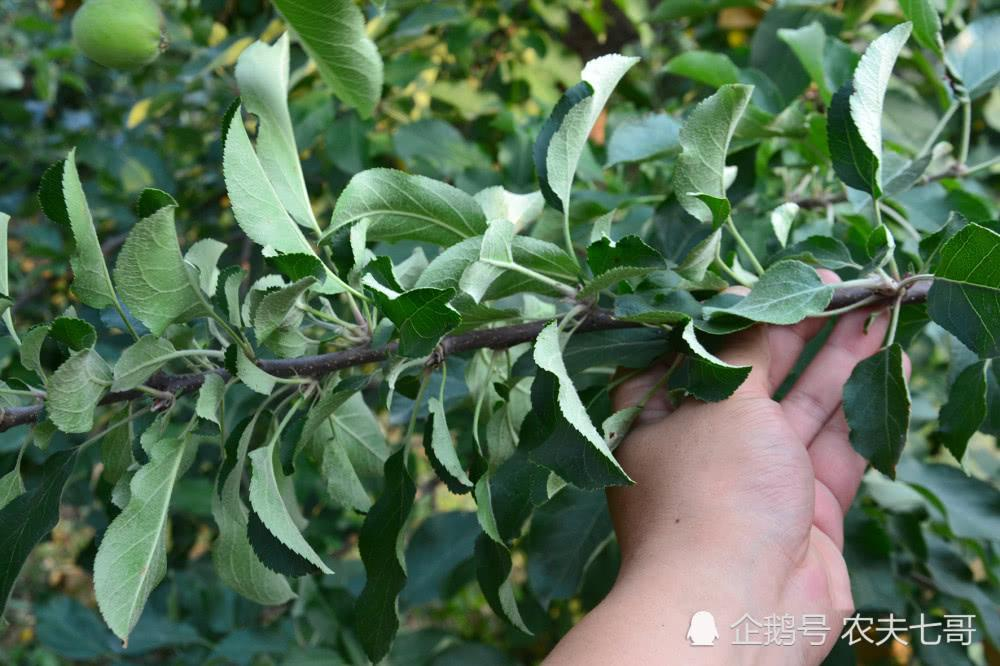apple: (74, 1, 166, 72)
